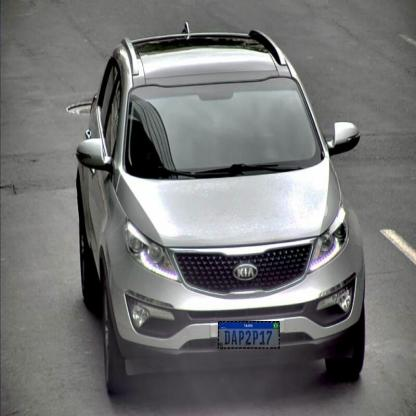PlacaM: (218, 321, 280, 349)
